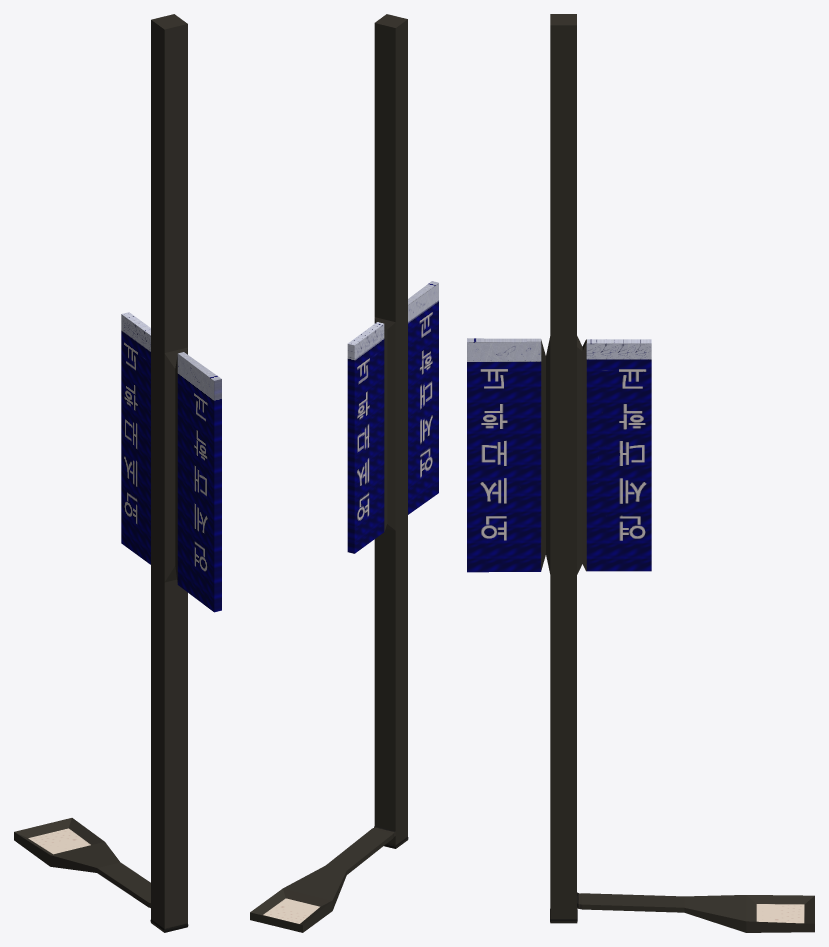
Rendered from ludeng4.obj.
3 views of the same model, side by side, from view 1: azimuth 30°, elevation 25°; view 2: azimuth 150°, elevation 25°; view 3: azimuth 270°, elevation 25° (orthographic). The views are drawn at different scales.
Parts seen in each view (by area): view 1: Cube.003_Material.001; view 2: Cube.003_Material.001; view 3: Cube.003_Material.001.
Boxes of the visible parts, x1,y1,x2,y2 form: Cube.003_Material.001: (14, 14, 221, 932); Cube.003_Material.001: (250, 14, 438, 932); Cube.003_Material.001: (467, 14, 814, 932).
Bounding box in the file's own units: 0.7248 × 10.78 × 3.78.
1 material, 1 textured.
